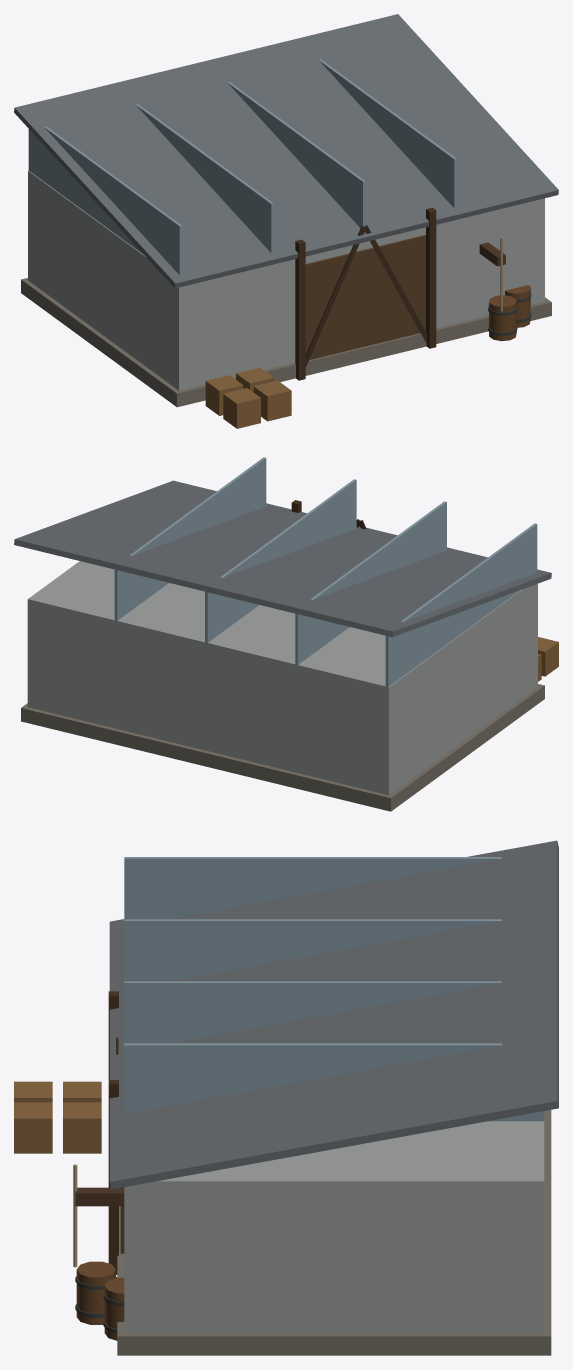
Rendered from procedural_warehouse@6.glb.
3 renders of one model, top to bottom at view 1: azimuth 30°, elevation 25°; view 2: azimuth 150°, elevation 25°; view 3: azimuth 270°, elevation 25°, orthographic. The views are drawn at different scales.
Parts seen in each view (by area): view 1: part_0; view 2: part_0; view 3: part_0.
Boxes of the visible parts, x1,y1,x2,y2 form: part_0: (14,14,558,428); part_0: (14,457,558,811); part_0: (14,840,558,1355).
Bounding box in the file's own units: 8.8 × 4.06 × 7.78.
